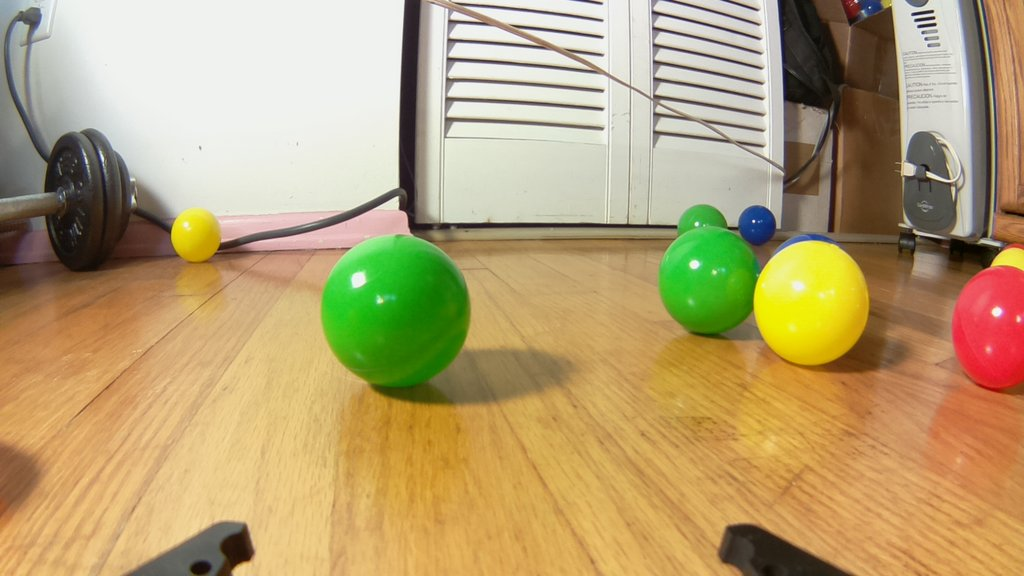home: (737, 204, 776, 246)
